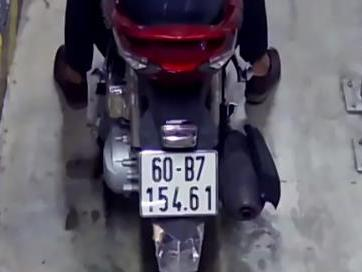num_plate: (137, 149, 219, 220)
